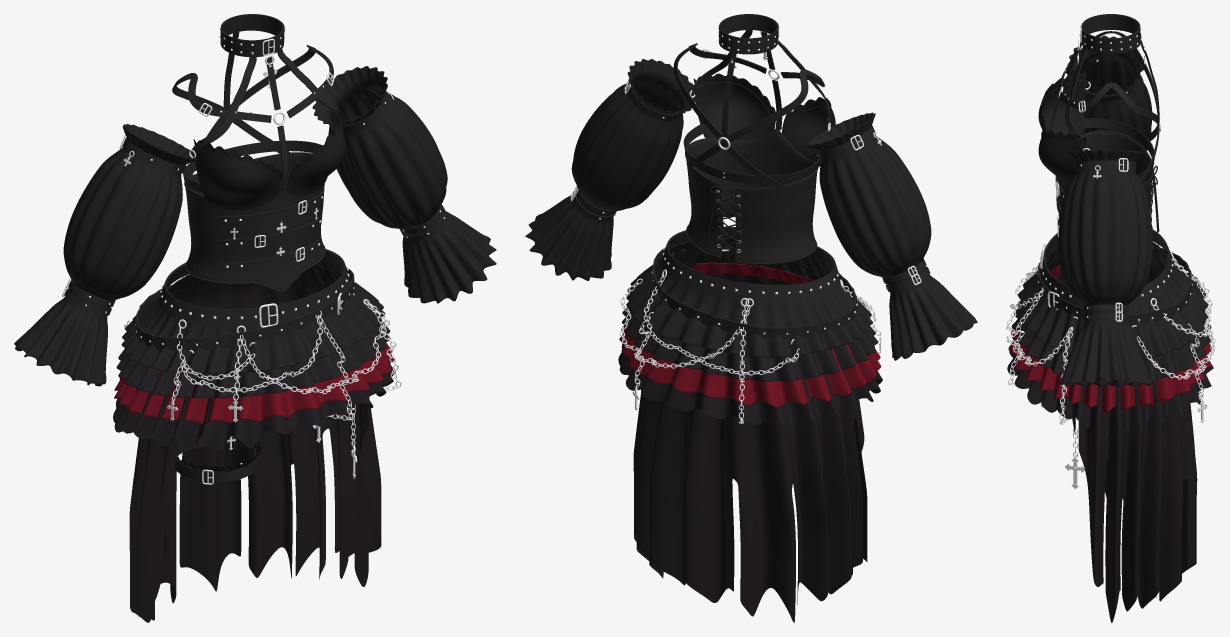
The model's file is gothic_outfit.glb.
3 views of the same model, side by side, from view 1: azimuth 30°, elevation 25°; view 2: azimuth 150°, elevation 25°; view 3: azimuth 270°, elevation 25° (orthographic). The views are drawn at different scales.
Parts seen in each view (by area): view 1: Skirt_Overskirt_Tattered, Top_Sleeve_R, Top_Sleeve_L, Skirt_Ruffle_1, Top_Corset, Top_Harness, Skirt_Belts, Top_Bra_Lace, Skirt_Ruffle_2, Skirt_Ruffle_3_Red, Skirt_Ruffle_4_Lace, Skirt_Hardware (+4 smaller); view 2: Skirt_Overskirt_Tattered, Top_Sleeve_R, Top_Sleeve_L, Skirt_Ruffle_1, Top_Corset, Top_Harness, Skirt_Ruffle_3_Red, Skirt_Ruffle_2, Skirt_Belts, Skirt_Ruffle_4_Lace, Top_Bra_Cups, Skirt_Hardware (+4 smaller); view 3: Skirt_Overskirt_Tattered, Top_Sleeve_L, Skirt_Ruffle_1, Top_Harness, Skirt_Ruffle_4_Lace, Top_Sleeve_R, Skirt_Ruffle_3_Red, Skirt_Hardware, Skirt_Belts, Skirt_Ruffle_2, Top_Bra_Lace, Top_Bra_Cups (+4 smaller).
Part boxes in pixels (x1,y1,x2,y2): Skirt_Overskirt_Tattered: [129, 266, 381, 622]; Top_Sleeve_R: [14, 124, 197, 386]; Top_Sleeve_L: [312, 66, 496, 303]; Skirt_Ruffle_1: [121, 260, 385, 374]; Top_Corset: [185, 154, 324, 290]; Top_Harness: [172, 14, 339, 192]; Skirt_Belts: [135, 249, 354, 351]; Top_Bra_Lace: [193, 103, 345, 210]; Skirt_Ruffle_2: [116, 289, 390, 398]; Skirt_Ruffle_3_Red: [114, 343, 394, 424]; Skirt_Ruffle_4_Lace: [113, 363, 395, 450]; Skirt_Hardware: [124, 263, 401, 484]; Skirt_Overskirt_Tattered: [633, 247, 867, 622]; Top_Sleeve_R: [805, 112, 977, 360]; Top_Sleeve_L: [525, 59, 697, 280]; Skirt_Ruffle_1: [626, 238, 872, 357]; Top_Corset: [686, 131, 817, 262]; Top_Harness: [673, 14, 830, 192]; Skirt_Ruffle_3_Red: [619, 262, 881, 407]; Skirt_Ruffle_2: [622, 251, 878, 381]; Skirt_Belts: [652, 226, 857, 339]; Skirt_Ruffle_4_Lace: [618, 273, 882, 432]; Top_Bra_Cups: [695, 81, 830, 165]; Skirt_Hardware: [619, 244, 881, 423]; Skirt_Overskirt_Tattered: [1072, 251, 1197, 622]; Top_Sleeve_L: [1058, 150, 1152, 386]; Skirt_Ruffle_1: [1017, 242, 1208, 359]; Top_Harness: [1050, 14, 1159, 184]; Skirt_Ruffle_4_Lace: [1007, 273, 1213, 438]; Top_Sleeve_R: [1067, 35, 1152, 150]; Skirt_Ruffle_3_Red: [1008, 264, 1211, 413]; Skirt_Hardware: [1006, 243, 1215, 488]; Skirt_Belts: [1037, 229, 1191, 325]; Skirt_Ruffle_2: [1011, 254, 1211, 386]; Top_Bra_Lace: [1038, 71, 1085, 189]; Top_Bra_Cups: [1042, 79, 1085, 136].
Bounding box in the file's own units: 1.02 × 1.24 × 0.4281.
